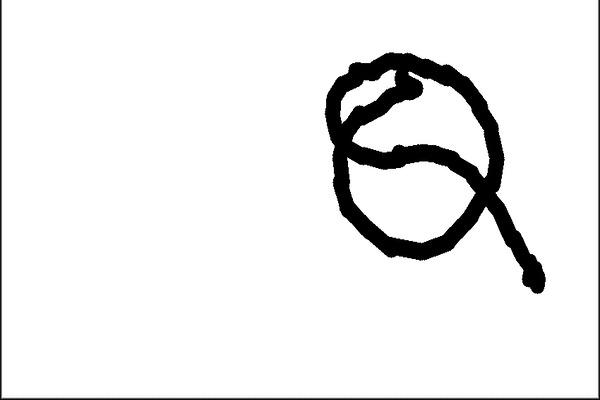Q: (306, 39, 555, 302)
